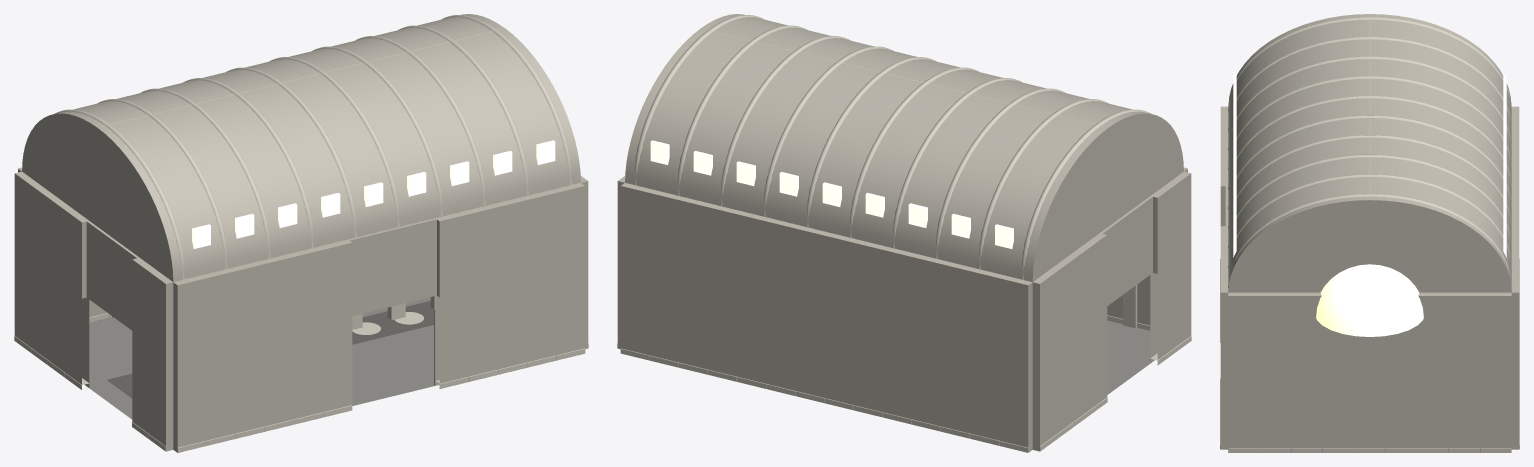
Rendered from environment.glb.
3 views of the same model, side by side, from view 1: azimuth 30°, elevation 25°; view 2: azimuth 150°, elevation 25°; view 3: azimuth 270°, elevation 25° (orthographic). The views are drawn at different scales.
Parts seen in each view (by area): view 1: spire-nave authored environment; view 2: spire-nave authored environment; view 3: spire-nave authored environment.
Boxes of the visible parts, x1,y1,x2,y2 form: spire-nave authored environment: [14, 14, 588, 452]; spire-nave authored environment: [617, 14, 1191, 452]; spire-nave authored environment: [1220, 14, 1519, 452].
Size of the model in its own units: 31.98 by 17.59 by 19.06.
